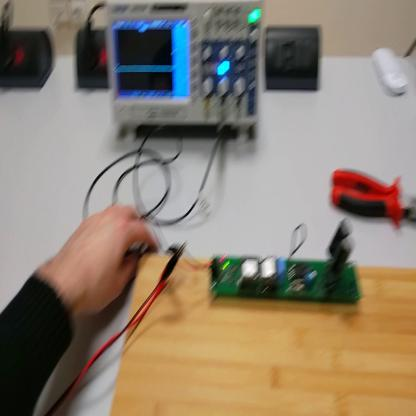hand: (62, 205, 157, 316)
high voltage board: (175, 220, 366, 308)
oscilloscope: (107, 4, 265, 146)
oscilloscope probe tip: (132, 237, 163, 252)
pliers: (333, 168, 415, 233)
socket: (2, 23, 58, 95), (74, 27, 113, 93)
working area: (113, 249, 416, 416)
